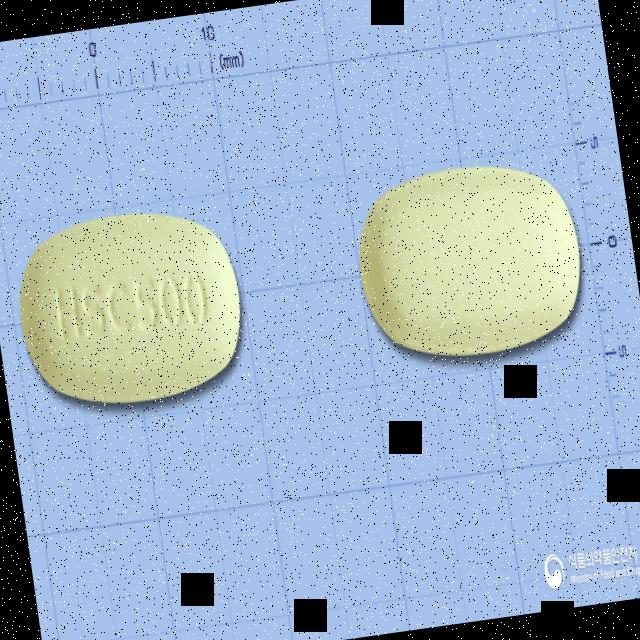Clithro: (8, 198, 254, 417)
